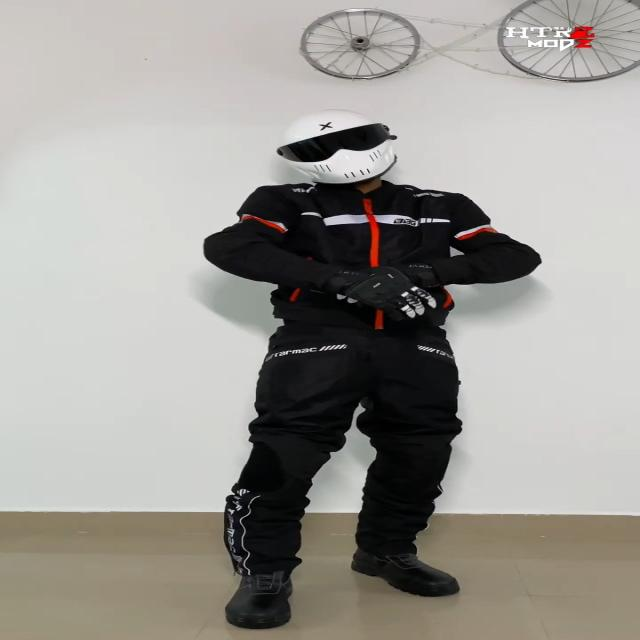Helmet_Wearer: (256, 109, 449, 190)
Jacket_Wearer: (194, 185, 524, 338)
Person: (207, 114, 533, 630)
